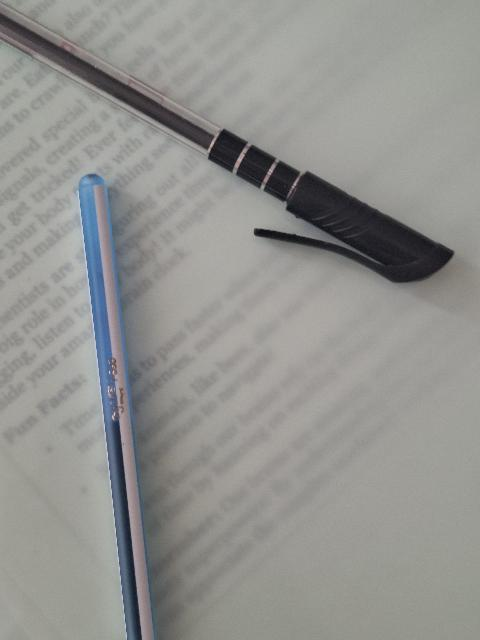writing_tool: (0, 3, 455, 288), (75, 171, 160, 640)
